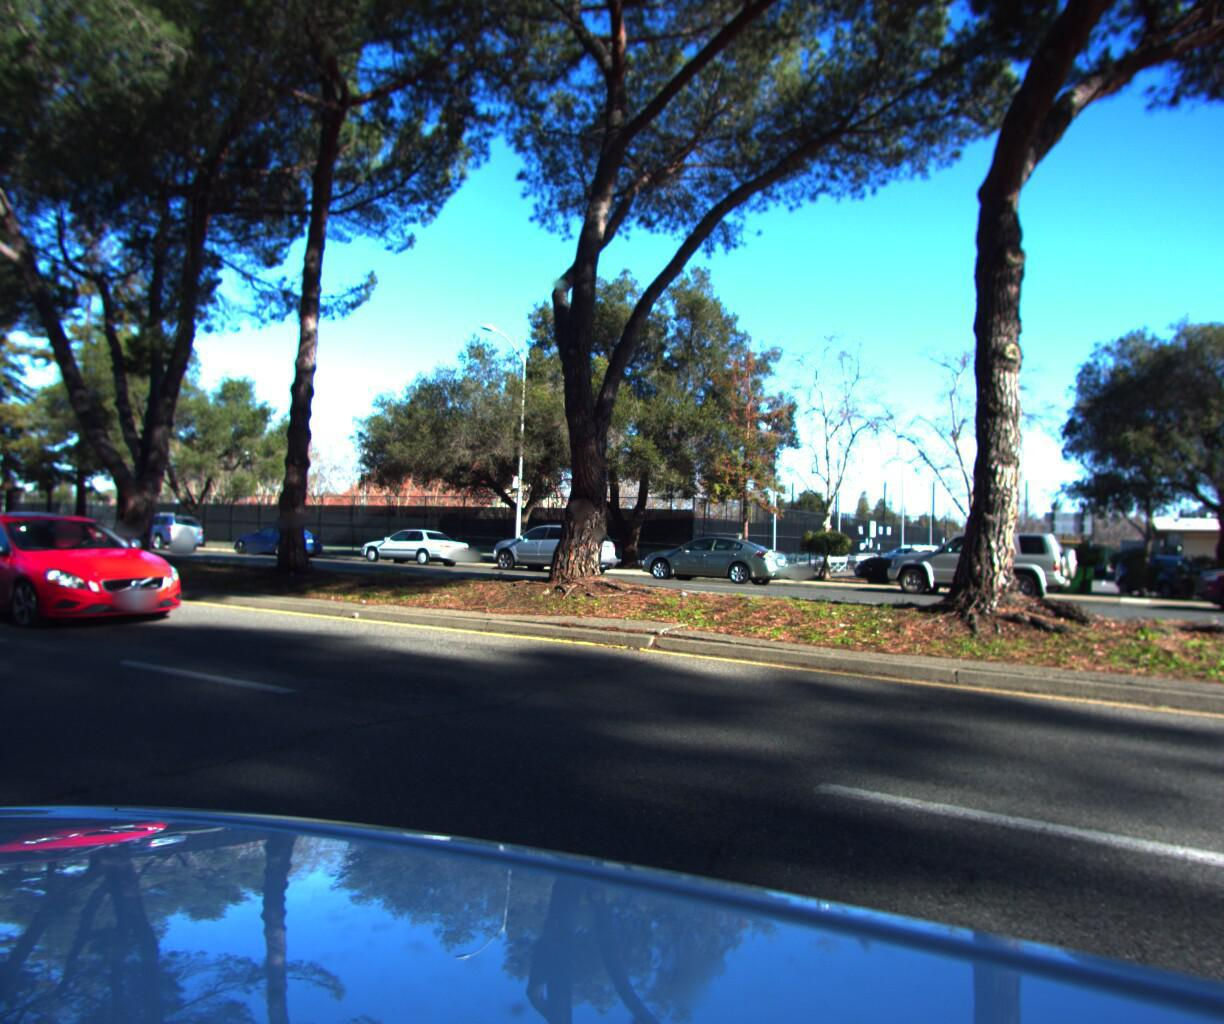car: (0, 508, 215, 635), (876, 525, 1084, 610), (631, 533, 799, 593), (481, 522, 625, 581), (352, 527, 475, 573), (112, 515, 210, 558), (226, 525, 332, 564), (1182, 538, 1224, 628)
